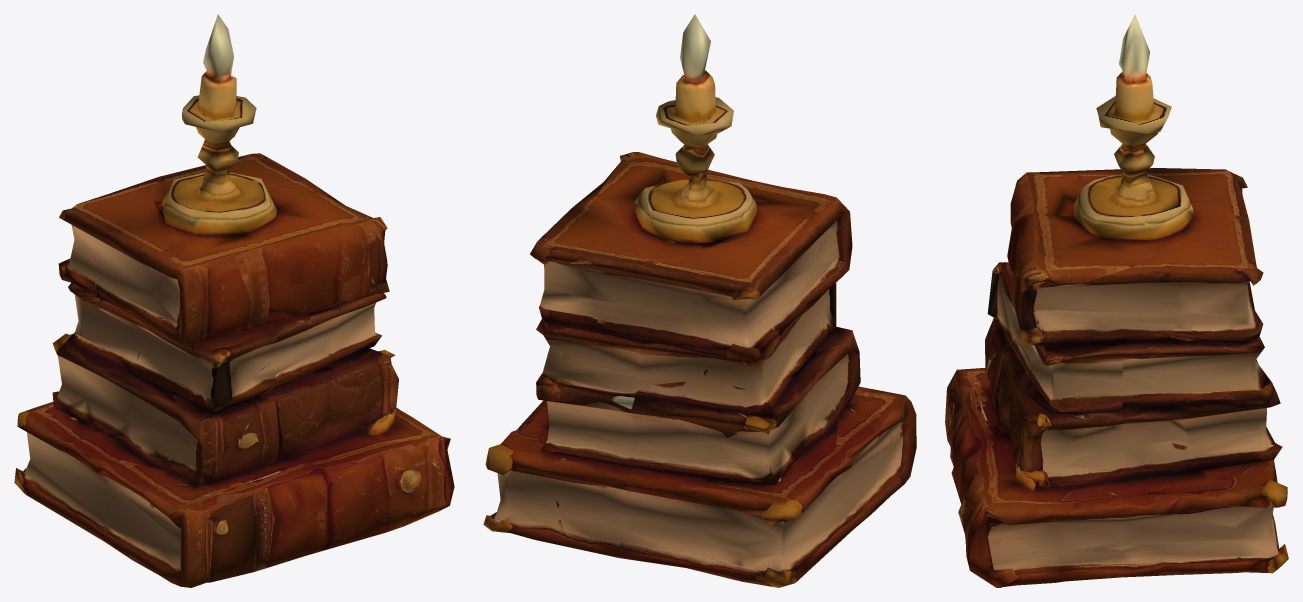
Rendered from books.glb.
3 renders of one model, left to right at view 1: azimuth 30°, elevation 25°; view 2: azimuth 150°, elevation 25°; view 3: azimuth 270°, elevation 25°, orthographic. The views are drawn at different scales.
Visible parts, largest first — view 1: tripo_node_ac87c3e9-4dc2-4832-ba5c-0babbe3ae3ef; view 2: tripo_node_ac87c3e9-4dc2-4832-ba5c-0babbe3ae3ef; view 3: tripo_node_ac87c3e9-4dc2-4832-ba5c-0babbe3ae3ef.
Boxes of the visible parts, box(x1,y1,x2,y2) form: tripo_node_ac87c3e9-4dc2-4832-ba5c-0babbe3ae3ef: box(14, 14, 454, 587); tripo_node_ac87c3e9-4dc2-4832-ba5c-0babbe3ae3ef: box(483, 14, 916, 587); tripo_node_ac87c3e9-4dc2-4832-ba5c-0babbe3ae3ef: box(945, 14, 1288, 587).
Bounding box in the file's own units: 0.6572 × 0.9786 × 0.6124.
1 material, 1 textured.
